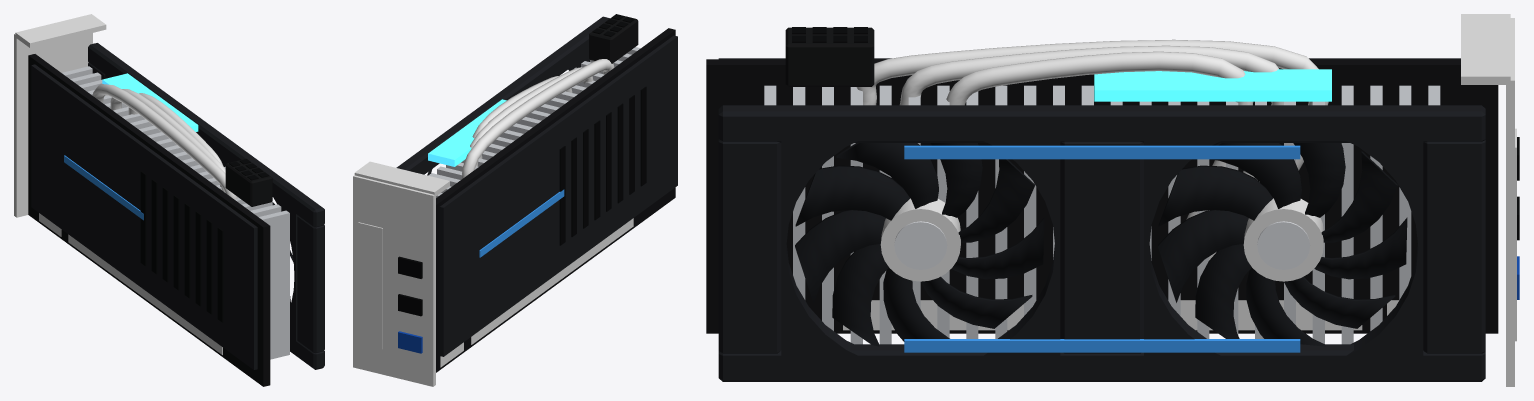
Rendered from hw_gpu_rtx2060.glb.
The picture shows the model from 3 angles, left to right: view 1: azimuth 30°, elevation 25°; view 2: azimuth 150°, elevation 25°; view 3: azimuth 270°, elevation 25°; orthographic projection. The views are drawn at different scales.
Visible parts, largest first — view 1: Body; view 2: Body; view 3: Body, Rotor_X_1, Rotor_X_0.
Part boxes in pixels (x1,y1,x2,y2): Body: (14,14,324,386); Body: (353,14,677,386); Body: (706,14,1519,386); Rotor_X_1: (795,143,1044,346); Rotor_X_0: (1158,143,1407,346).
Bounding box in the file's own units: 0.0367 × 0.0847 × 0.1974.
